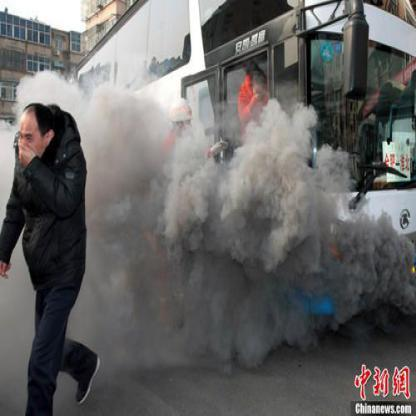smoke: (182, 162, 288, 355), (94, 104, 176, 350), (292, 166, 344, 286), (351, 226, 415, 308), (241, 107, 306, 158)
